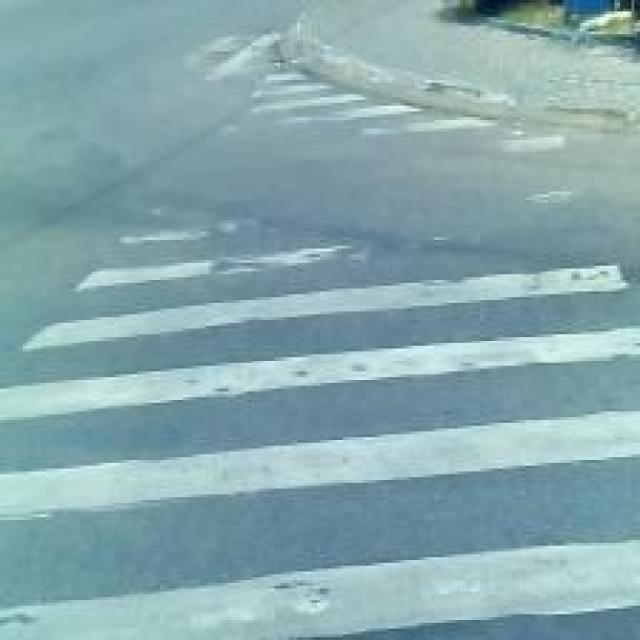walk-crossing: (7, 89, 616, 640)
